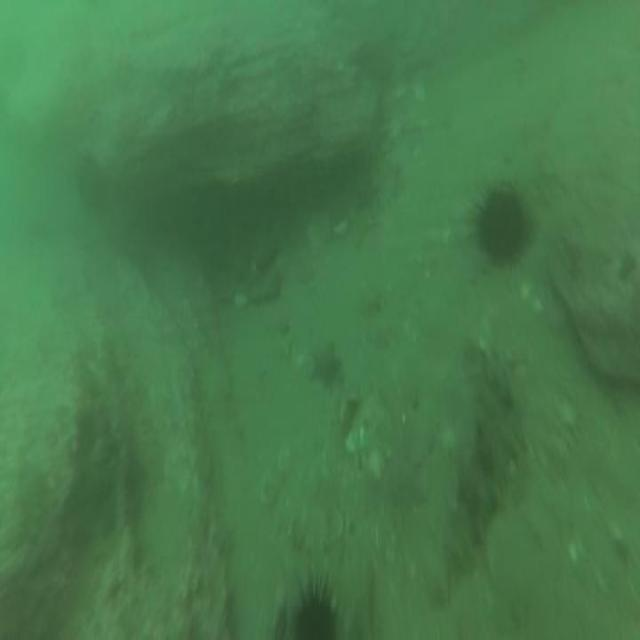echinus: (473, 177, 529, 273), (288, 577, 340, 640), (72, 148, 106, 216)
holothurian: (439, 419, 503, 599)
starfish: (307, 336, 345, 394)
